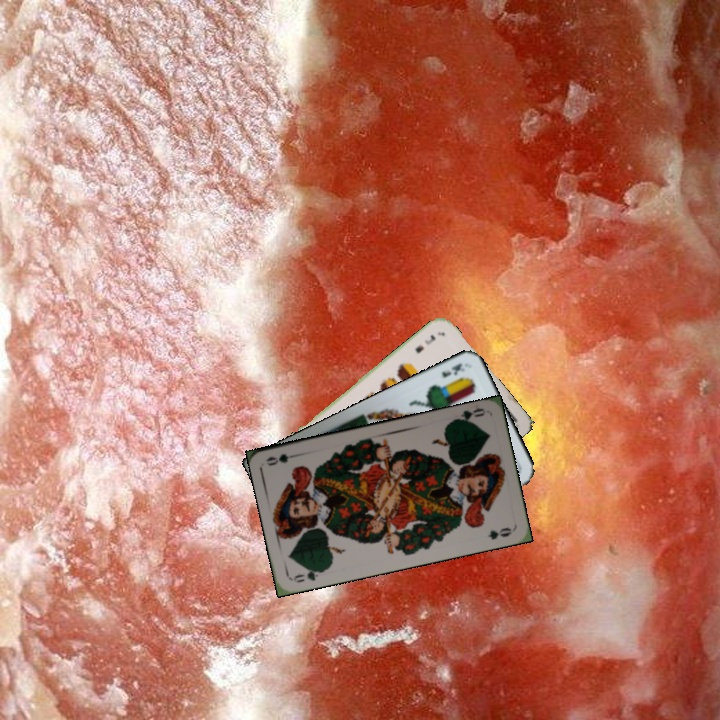E7: (411, 330, 438, 356)
EK: (438, 359, 467, 380)
GO: (448, 404, 487, 425), (289, 565, 329, 585)
